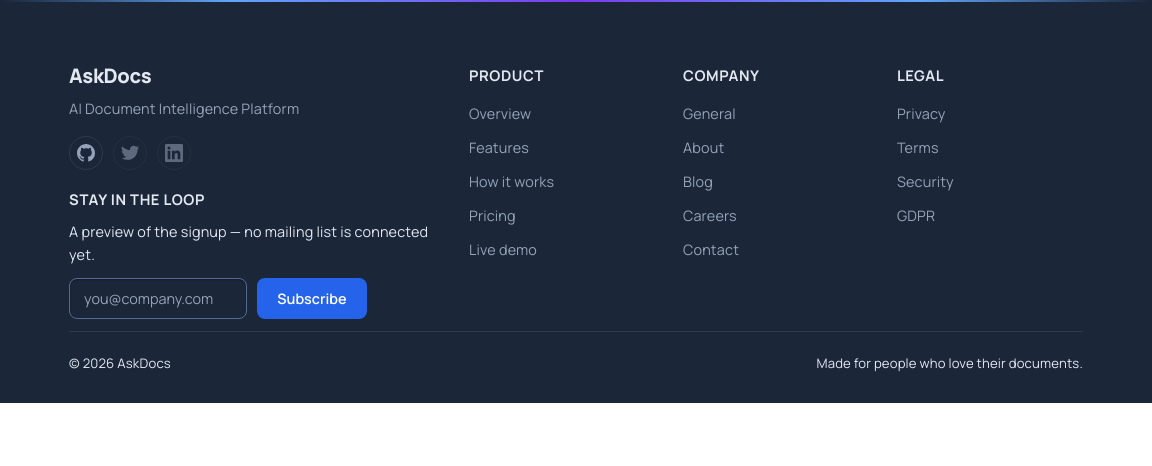
Scenario: LandingFooter newsletter submit › replaces the message on a second submit instead of stacking them
Type "not-an-address" into the field named "email".
click(158, 298); type("not-an-address")  # box x1=69 y1=278 x2=247 y2=319
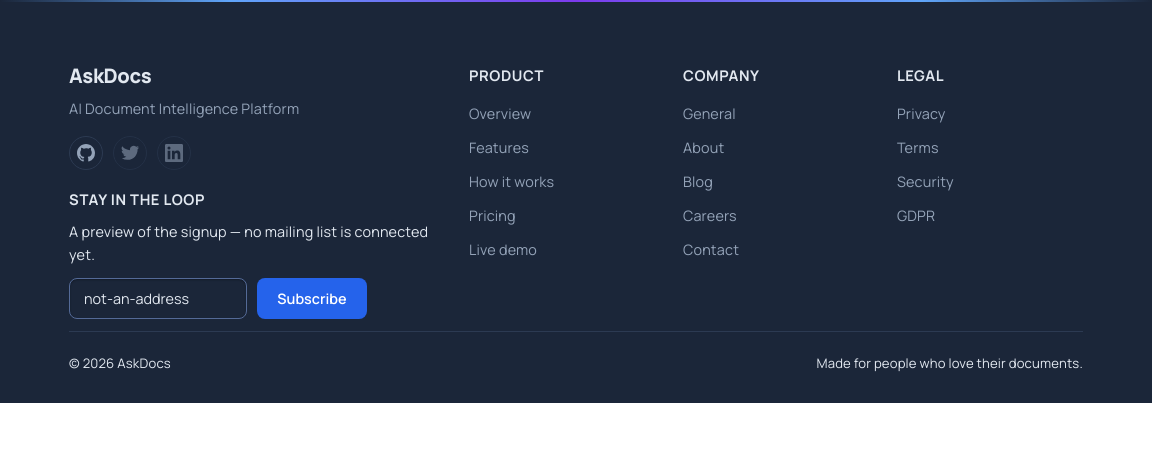
Submit the form with class "newsletter", box x1=69 y1=188 x2=441 y2=331
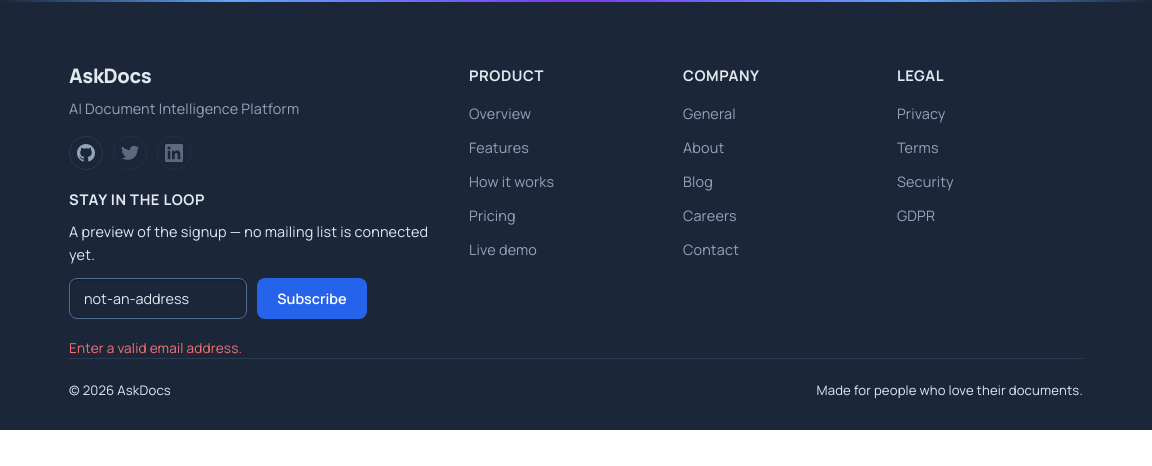
Replace the text in the field named "email" with "reader@example.com" at coordinates (158, 298), box x1=69 y1=278 x2=247 y2=319
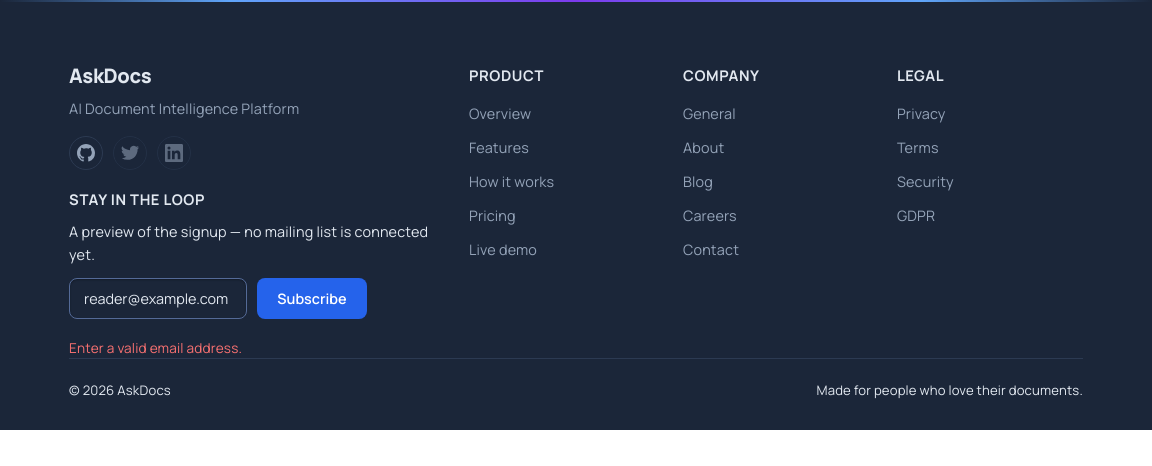
Submit the form with class "newsletter", box x1=69 y1=188 x2=441 y2=358
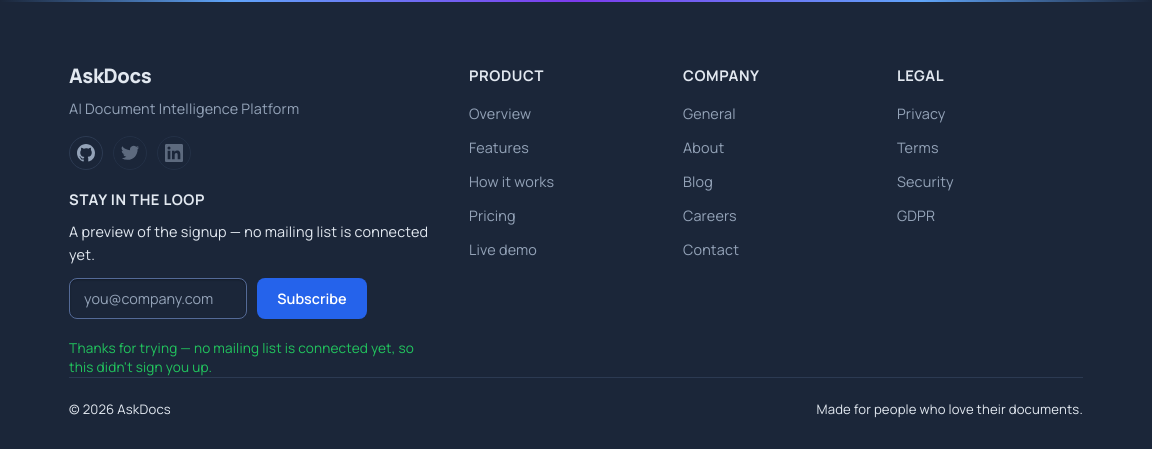
Now the number of messages with class "newsletter-status" is 1, box x1=69 y1=339 x2=441 y2=377
Now the message with class "newsletter-status" no longer shows "Enter a valid email address"
